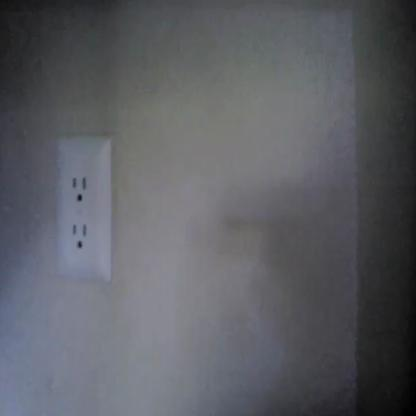OUTLET: (53, 137, 112, 284)
